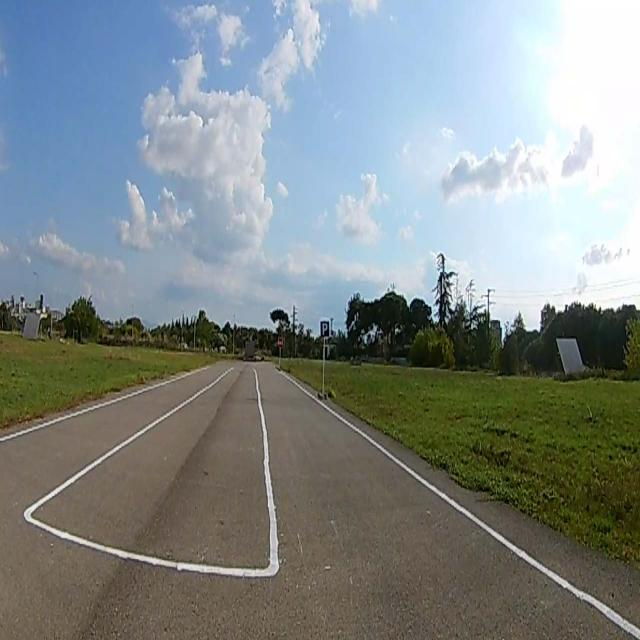park: (320, 321, 329, 336)
